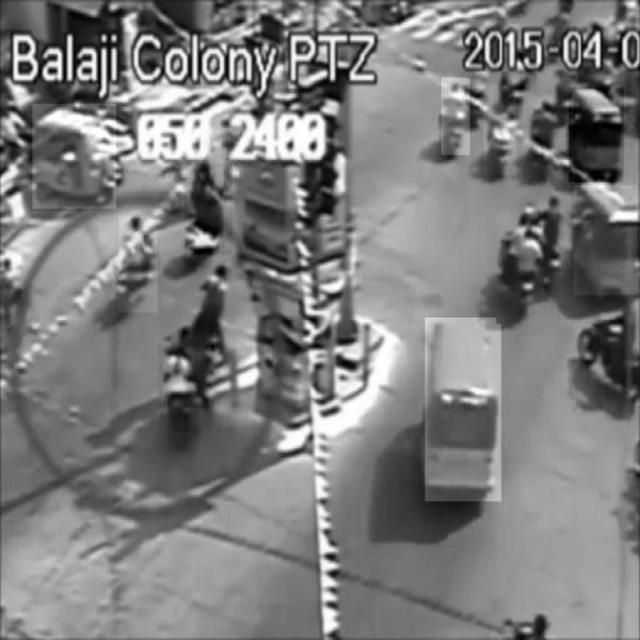accident: (159, 261, 236, 433)
vehicle: (425, 318, 501, 502), (33, 104, 116, 208), (574, 185, 638, 296), (497, 214, 544, 324), (569, 88, 624, 182), (186, 164, 233, 255), (119, 217, 157, 313), (484, 107, 516, 175), (442, 78, 470, 155)
